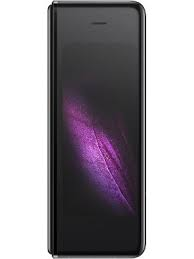samsung: (44, 1, 151, 257)
